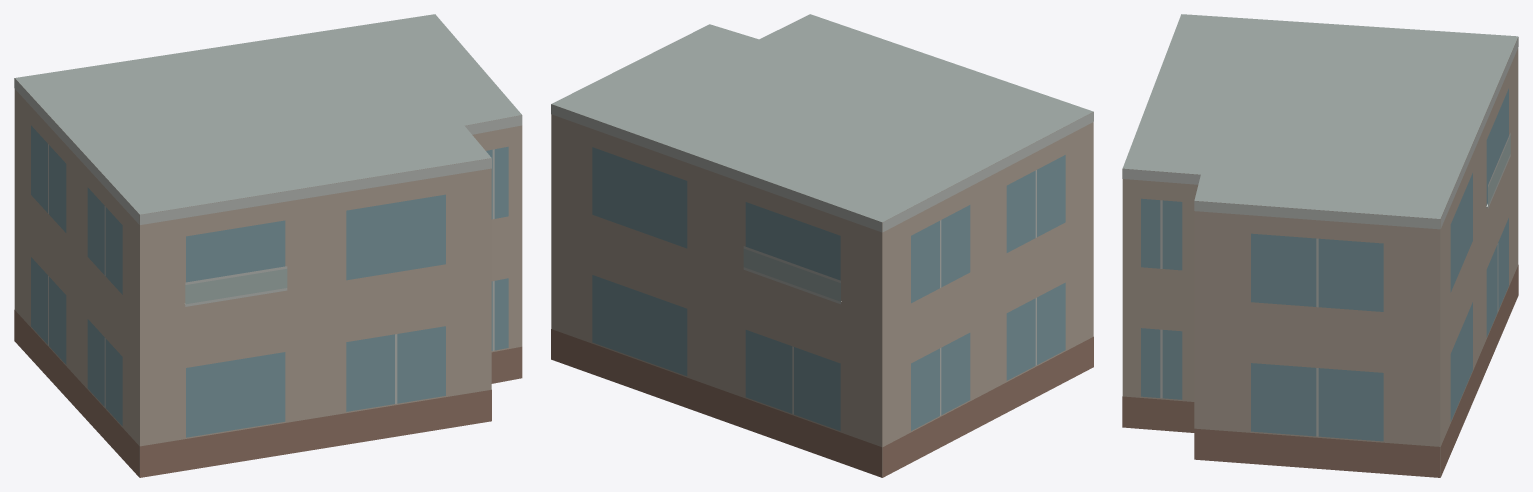
The model's file is survey-upis-32664566.glb.
3 views of the same model, side by side, from view 1: azimuth 30°, elevation 25°; view 2: azimuth 150°, elevation 25°; view 3: azimuth 270°, elevation 25° (orthographic). The views are drawn at different scales.
Parts seen in each view (by area): view 1: survey-upis-32664566.tmp; view 2: survey-upis-32664566.tmp; view 3: survey-upis-32664566.tmp.
Boxes of the visible parts, x1,y1,x2,y2 form: survey-upis-32664566.tmp: (14, 14, 522, 477); survey-upis-32664566.tmp: (551, 14, 1093, 477); survey-upis-32664566.tmp: (1122, 14, 1518, 477).
Bounding box in the file's own units: 10.37 × 6.1 × 8.47.
